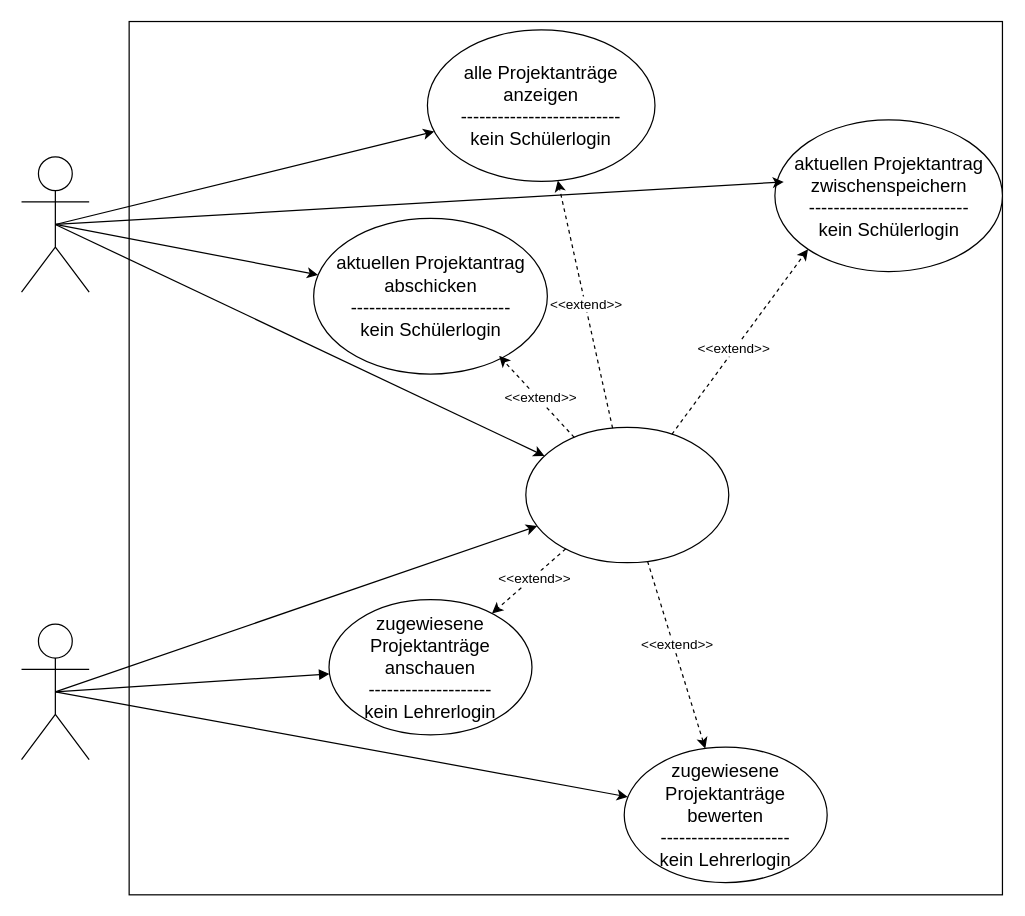
Image size: 1025x916. Some labels were removed from this diagram. Here are the shapes that lost their labels. From the top down, the centre of each, then its label:
At (54,224): "Schüler".
At (627,494): "Login".
At (54,691): "Lehrer".
